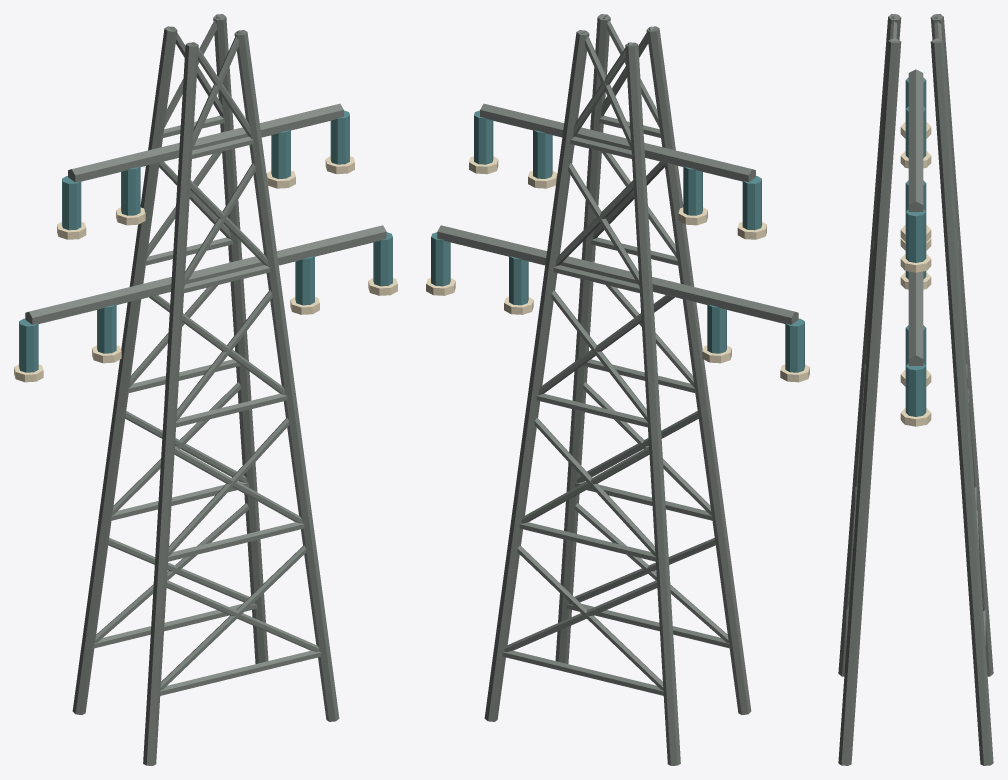
File: hsinchu_power_pylon_v2.glb
The picture shows the model from 3 angles, left to right: view 1: azimuth 30°, elevation 25°; view 2: azimuth 150°, elevation 25°; view 3: azimuth 270°, elevation 25°; orthographic projection.
Visible parts, largest first — view 1: hsinchu_power_pylon_v2__hsinchu-machinery, hsinchu_power_pylon_v2__hsinchu-teal, hsinchu_power_pylon_v2__hsinchu-pale-trim; view 2: hsinchu_power_pylon_v2__hsinchu-machinery, hsinchu_power_pylon_v2__hsinchu-teal, hsinchu_power_pylon_v2__hsinchu-pale-trim; view 3: hsinchu_power_pylon_v2__hsinchu-machinery, hsinchu_power_pylon_v2__hsinchu-teal, hsinchu_power_pylon_v2__hsinchu-pale-trim.
Boxes of the visible parts, box(x1,y1,x2,y2) form: hsinchu_power_pylon_v2__hsinchu-machinery: box(25, 14, 386, 765); hsinchu_power_pylon_v2__hsinchu-teal: box(19, 110, 392, 372); hsinchu_power_pylon_v2__hsinchu-pale-trim: box(14, 156, 397, 382); hsinchu_power_pylon_v2__hsinchu-machinery: box(437, 14, 798, 765); hsinchu_power_pylon_v2__hsinchu-teal: box(431, 110, 804, 372); hsinchu_power_pylon_v2__hsinchu-pale-trim: box(426, 156, 809, 382); hsinchu_power_pylon_v2__hsinchu-machinery: box(838, 14, 993, 765); hsinchu_power_pylon_v2__hsinchu-teal: box(905, 77, 926, 416); hsinchu_power_pylon_v2__hsinchu-pale-trim: box(900, 122, 931, 426).
Size of the model in its own units: 35.76 by 61.7 by 12.54.
